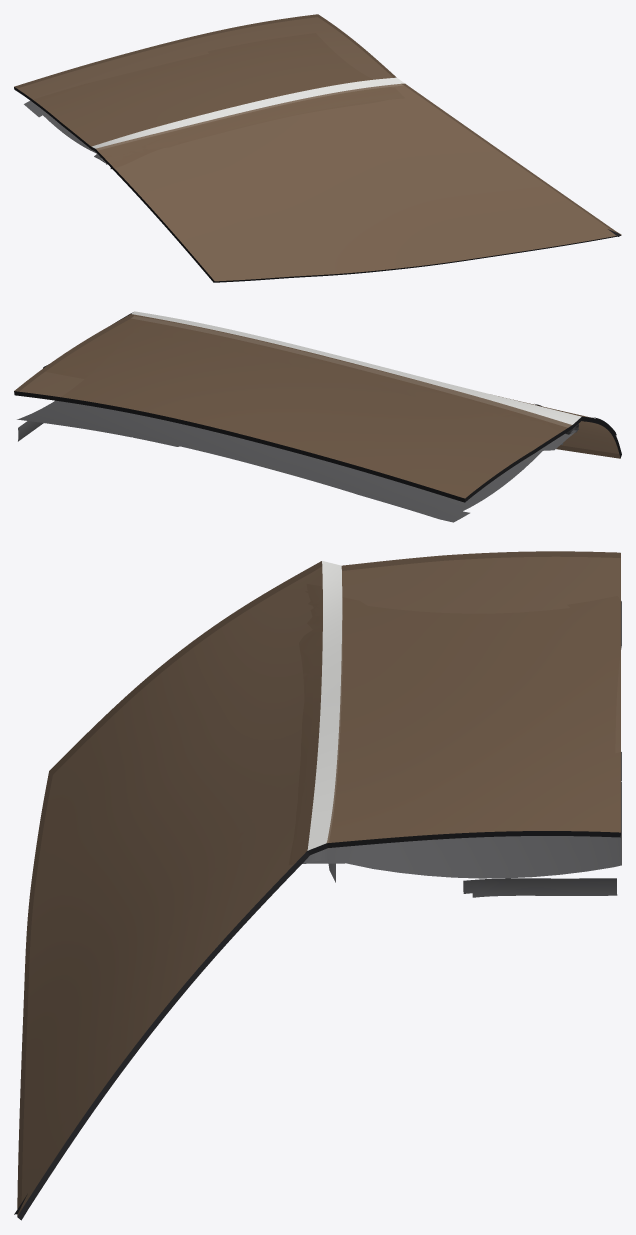
The model's file is SM_DoorGlass_R.fbx.
3 views of the same model, one above another, from view 1: azimuth 30°, elevation 25°; view 2: azimuth 150°, elevation 25°; view 3: azimuth 270°, elevation 25° (orthographic). The views are drawn at different scales.
Parts seen in each view (by area): view 1: Export_DoorGlass_R; view 2: Export_DoorGlass_R; view 3: Export_DoorGlass_R.
Boxes of the visible parts, x1,y1,x2,y2 form: Export_DoorGlass_R: (14,14,621,282); Export_DoorGlass_R: (14,311,621,522); Export_DoorGlass_R: (14,551,621,1220).
Bounding box in the file's own units: 0.7279 × 1.15 × 0.3638.
